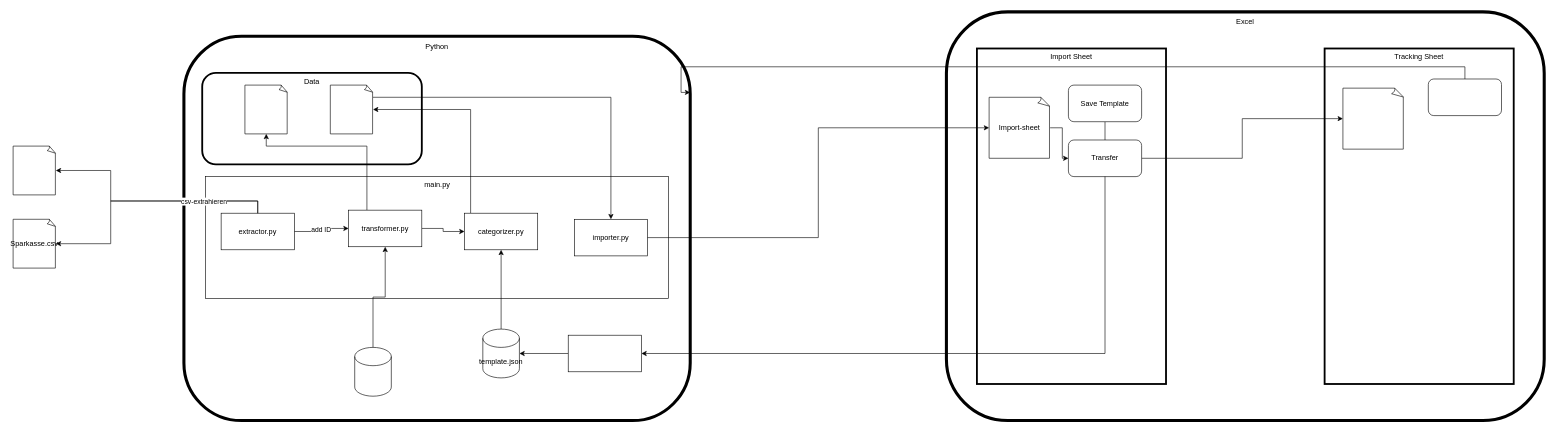
This 1556x432 diagram has some shape labels left out. The shapes that lost their labels are listed below. From the top down, each one's centre as x and y in pixels, then its label:
the point at 266,109: staging_data.csv
the point at 351,109: categorized_data.csv
the point at 1465,97: Import CSV
the point at 1373,118: Tracking-Sheet
the point at 34,170: ING.csv
the point at 372,371: bank.json
the point at 604,353: add_template.py
